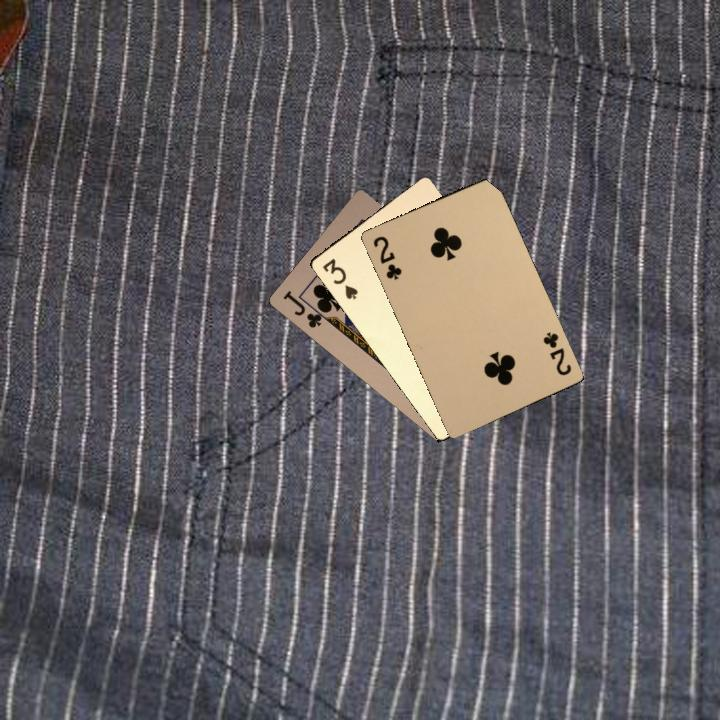2c: (369, 232, 405, 283), (539, 328, 574, 378)
3s: (318, 254, 361, 302)
Jc: (279, 286, 330, 331)
